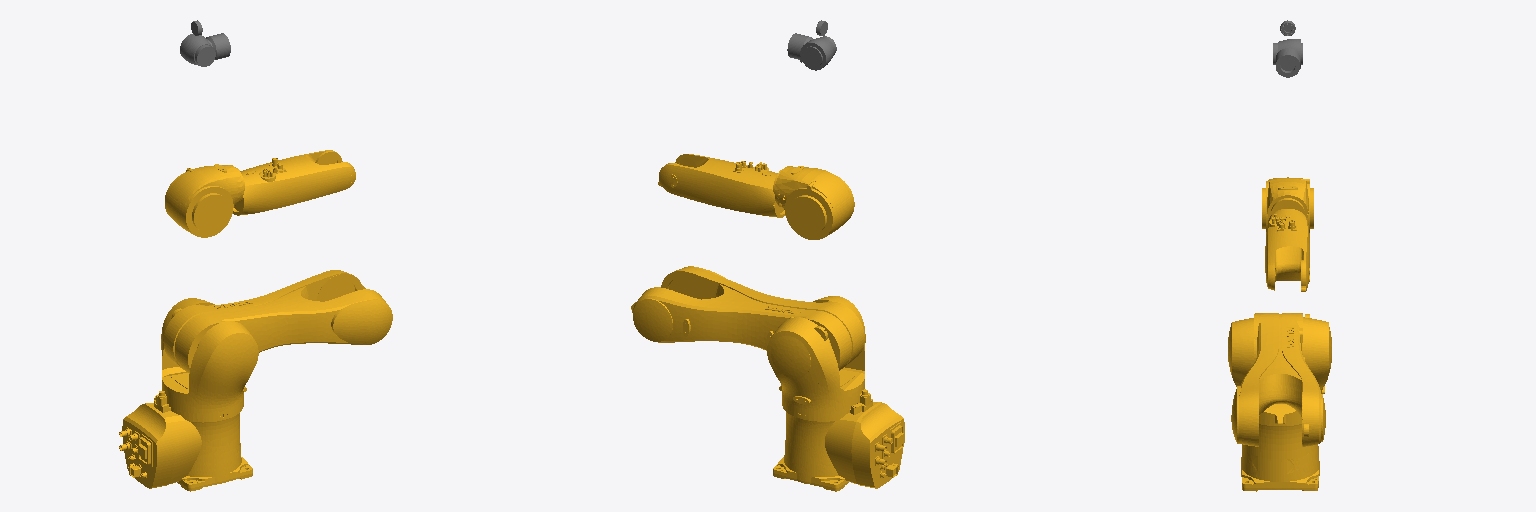
The robot description file, URDF, robot "staubli_tx2_60l":
<?xml version="1.0"?>
<robot name="staubli_tx2_60l">
  <material name="staubli_yellow">
    <color rgba="0.97 0.74 0.17 1.0"/>
  </material>
  <material name="staubli_grey">
    <color rgba="0.50 0.50 0.50 1.0"/>
  </material>

  <link name="base_link">
    <visual>
      <geometry>
        <mesh filename="package://mfja_3rd_floor_description/models/staubli_tx2_60l/meshes/tx2_60/visual/base_link.stl"/>
      </geometry>
      <material name="staubli_yellow"/>
    </visual>
    <collision>
      <geometry>
        <mesh filename="package://mfja_3rd_floor_description/models/staubli_tx2_60l/meshes/tx2_60/collision/base_link.stl"/>
      </geometry>
    </collision>
  </link>

  <link name="link_1">
    <visual>
      <geometry>
        <mesh filename="package://mfja_3rd_floor_description/models/staubli_tx2_60l/meshes/tx2_60/visual/link_1.stl"/>
      </geometry>
      <material name="staubli_yellow"/>
    </visual>
    <collision>
      <geometry>
        <mesh filename="package://mfja_3rd_floor_description/models/staubli_tx2_60l/meshes/tx2_60/collision/link_1.stl"/>
      </geometry>
    </collision>
  </link>

  <link name="link_2">
    <visual>
      <geometry>
        <mesh filename="package://mfja_3rd_floor_description/models/staubli_tx2_60l/meshes/tx2_60l/visual/link_2.stl"/>
      </geometry>
      <material name="staubli_yellow"/>
    </visual>
    <collision>
      <geometry>
        <mesh filename="package://mfja_3rd_floor_description/models/staubli_tx2_60l/meshes/tx2_60l/collision/link_2.stl"/>
      </geometry>
    </collision>
  </link>

  <link name="link_3">
    <visual>
      <geometry>
        <mesh filename="package://mfja_3rd_floor_description/models/staubli_tx2_60l/meshes/tx2_60/visual/link_3.stl"/>
      </geometry>
      <material name="staubli_yellow"/>
    </visual>
    <collision>
      <geometry>
        <mesh filename="package://mfja_3rd_floor_description/models/staubli_tx2_60l/meshes/tx2_60/collision/link_3.stl"/>
      </geometry>
    </collision>
  </link>

  <link name="link_4">
    <visual>
      <geometry>
        <mesh filename="package://mfja_3rd_floor_description/models/staubli_tx2_60l/meshes/tx2_60l/visual/link_4.stl"/>
      </geometry>
      <material name="staubli_yellow"/>
    </visual>
    <collision>
      <geometry>
        <mesh filename="package://mfja_3rd_floor_description/models/staubli_tx2_60l/meshes/tx2_60l/collision/link_4.stl"/>
      </geometry>
    </collision>
  </link>

  <link name="link_5">
    <visual>
      <geometry>
        <mesh filename="package://mfja_3rd_floor_description/models/staubli_tx2_60l/meshes/tx60/visual/link_5.stl"/>
      </geometry>
      <material name="staubli_grey"/>
    </visual>
    <collision>
      <geometry>
        <mesh filename="package://mfja_3rd_floor_description/models/staubli_tx2_60l/meshes/tx60/collision/link_5.stl"/>
      </geometry>
    </collision>
  </link>

  <link name="link_6">
    <visual>
      <geometry>
        <mesh filename="package://mfja_3rd_floor_description/models/staubli_tx2_60l/meshes/tx60/visual/link_6.stl"/>
      </geometry>
      <material name="staubli_grey"/>
    </visual>
    <collision>
      <geometry>
        <mesh filename="package://mfja_3rd_floor_description/models/staubli_tx2_60l/meshes/tx60/collision/link_6.stl"/>
      </geometry>
    </collision>
  </link>

  <link name="flange"/>
  <link name="base"/>
  <link name="tool0"/>

  <joint name="joint_1" type="revolute">
    <origin xyz="0 0 0.375" rpy="0 0 0"/>
    <parent link="base_link"/>
    <child link="link_1"/>
    <axis xyz="0 0 1"/>
    <limit lower="-3.14159265359" upper="3.14159265359" effort="126.0" velocity="7.59218224618"/>
  </joint>

  <joint name="joint_2" type="revolute">
    <origin xyz="0 0 0" rpy="0 0 0"/>
    <parent link="link_1"/>
    <child link="link_2"/>
    <axis xyz="0 1 0"/>
    <limit lower="-2.22529479629" upper="2.22529479629" effort="47.0" velocity="6.71951762018"/>
  </joint>

  <joint name="joint_3" type="revolute">
    <origin xyz="0 0.02 0.40" rpy="0 0 0"/>
    <parent link="link_2"/>
    <child link="link_3"/>
    <axis xyz="0 1 0"/>
    <limit lower="-2.66162710929" upper="2.66162710929" effort="32.0" velocity="8.72664625997"/>
  </joint>

  <joint name="joint_4" type="revolute">
    <origin xyz="0 0 0" rpy="0 0 0"/>
    <parent link="link_3"/>
    <child link="link_4"/>
    <axis xyz="0 0 1"/>
    <limit lower="-4.71238898038" upper="4.71238898038" effort="7.0" velocity="17.3664683405"/>
  </joint>

  <joint name="joint_5" type="revolute">
    <origin xyz="0 0 0.45" rpy="0 0 0"/>
    <parent link="link_4"/>
    <child link="link_5"/>
    <axis xyz="0 1 0"/>
    <limit lower="-2.11184839491" upper="2.31256125889" effort="8.0" velocity="18.5875365032"/>
  </joint>

  <joint name="joint_6" type="revolute">
    <origin xyz="0 0 0.07" rpy="0 0 0"/>
    <parent link="link_5"/>
    <child link="link_6"/>
    <axis xyz="0 0 1"/>
    <limit lower="-4.71238898038" upper="4.71238898038" effort="2.0" velocity="25.2201963626"/>
  </joint>

  <joint name="joint_6_flange" type="fixed">
    <origin xyz="0 0 0" rpy="0 -1.57079632679 0"/>
    <parent link="link_6"/>
    <child link="flange"/>
  </joint>

  <joint name="base_link_base" type="fixed">
    <origin xyz="0 0 0.375" rpy="0 0 0"/>
    <parent link="base_link"/>
    <child link="base"/>
  </joint>

  <joint name="flange_tool0" type="fixed">
    <origin xyz="0 0 0" rpy="0 1.57079632679 0"/>
    <parent link="flange"/>
    <child link="tool0"/>
  </joint>
</robot>

--- What the picture shows (computed from the rendered views, not written in the file) ---
3 views of the same robot in one strip: view 1: azimuth 30°, elevation 25°; view 2: azimuth 150°, elevation 25°; view 3: azimuth 270°, elevation 25° (orthographic).
Model staubli_tx2_60l with 10 links and 9 joints (6 revolute, 3 fixed), rooted at base_link, posed all joints at 0.
Visible links, largest first — view 1: link_2, base_link, link_1, link_4, link_3, link_5; view 2: link_2, base_link, link_1, link_4, link_3, link_5; view 3: link_2, base_link, link_1, link_4, link_3, link_5.
Boxes of the visible links, box(x1,y1,x2,y2) form: link_2: box(163, 270, 392, 373); base_link: box(119, 391, 252, 491); link_1: box(161, 298, 258, 422); link_4: box(233, 150, 355, 215); link_3: box(165, 164, 244, 237); link_5: box(180, 33, 230, 66); link_2: box(631, 266, 864, 370); base_link: box(773, 389, 904, 491); link_1: box(767, 296, 865, 421); link_4: box(658, 154, 785, 217); link_3: box(773, 166, 854, 239); link_5: box(787, 33, 836, 70); link_2: box(1231, 313, 1325, 446); base_link: box(1241, 424, 1319, 491); link_1: box(1228, 314, 1331, 425); link_4: box(1265, 209, 1309, 291); link_3: box(1262, 177, 1313, 232); link_5: box(1273, 39, 1302, 77).
Size in the robot's own frame: 0.7635 by 0.276 by 1.31 metres.
Meshes: 7 distinct files referenced, 7 mesh visuals loaded (7 ASCII STL).
